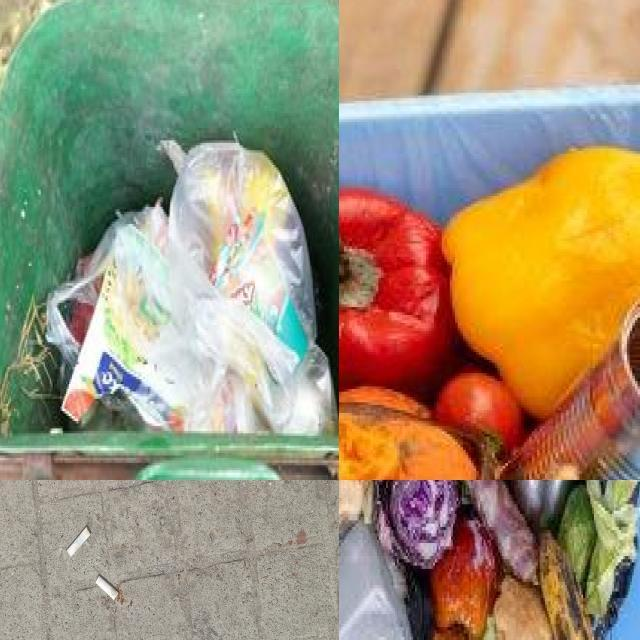Background: (0, 480, 339, 640)
Cig_bud: (67, 525, 91, 558), (95, 576, 119, 601)
Garbage: (339, 151, 640, 480), (39, 136, 339, 436), (339, 480, 637, 640)
Metal: (508, 306, 640, 480), (510, 480, 577, 532)
Plastic_Bag: (47, 142, 339, 434)
Plastic_bottle: (339, 523, 413, 640)
contaminated_waste: (38, 139, 339, 437), (506, 306, 640, 480), (339, 523, 413, 640), (510, 480, 574, 531)
top_view_waste: (0, 0, 339, 456)
